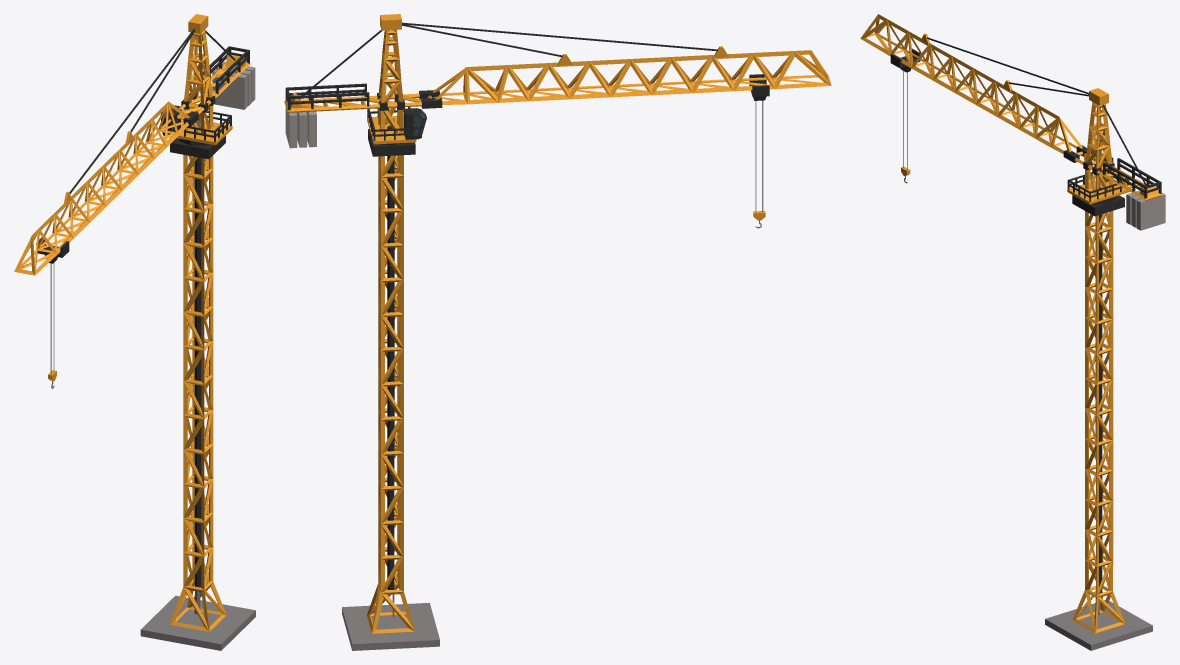
File: vehicles_crane.glb
The picture shows the model from 3 angles, left to right: view 1: azimuth 30°, elevation 25°; view 2: azimuth 150°, elevation 25°; view 3: azimuth 270°, elevation 25°; orthographic projection. The views are drawn at different scales.
Visible parts, largest first — view 1: crane-tower-base, crane-tower-top, crane-tower-hook; view 2: crane-tower-top, crane-tower-base; view 3: crane-tower-base, crane-tower-top.
Part boxes in pixels (x1,y1,x2,y2): crane-tower-base: (140, 120, 255, 650); crane-tower-top: (14, 14, 255, 275); crane-tower-hook: (48, 263, 56, 388); crane-tower-top: (284, 14, 831, 148); crane-tower-base: (342, 118, 439, 650); crane-tower-base: (1045, 180, 1152, 650); crane-tower-top: (860, 14, 1165, 230).
Size of the model in its own units: 21.76 by 32.29 by 16.69.
